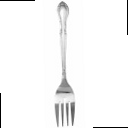Fork: (43, 1, 82, 128)
